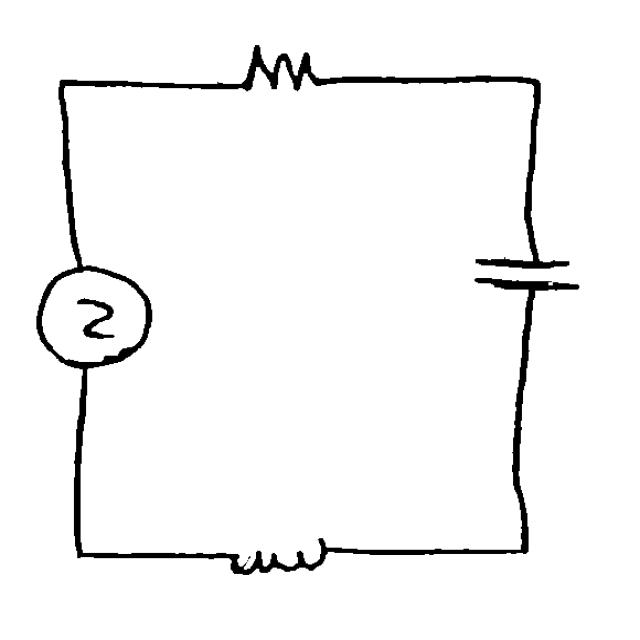ac: (26, 258, 158, 374)
capacitor: (464, 242, 596, 306)
inductor: (213, 524, 347, 585)
resistor: (229, 38, 339, 102)
